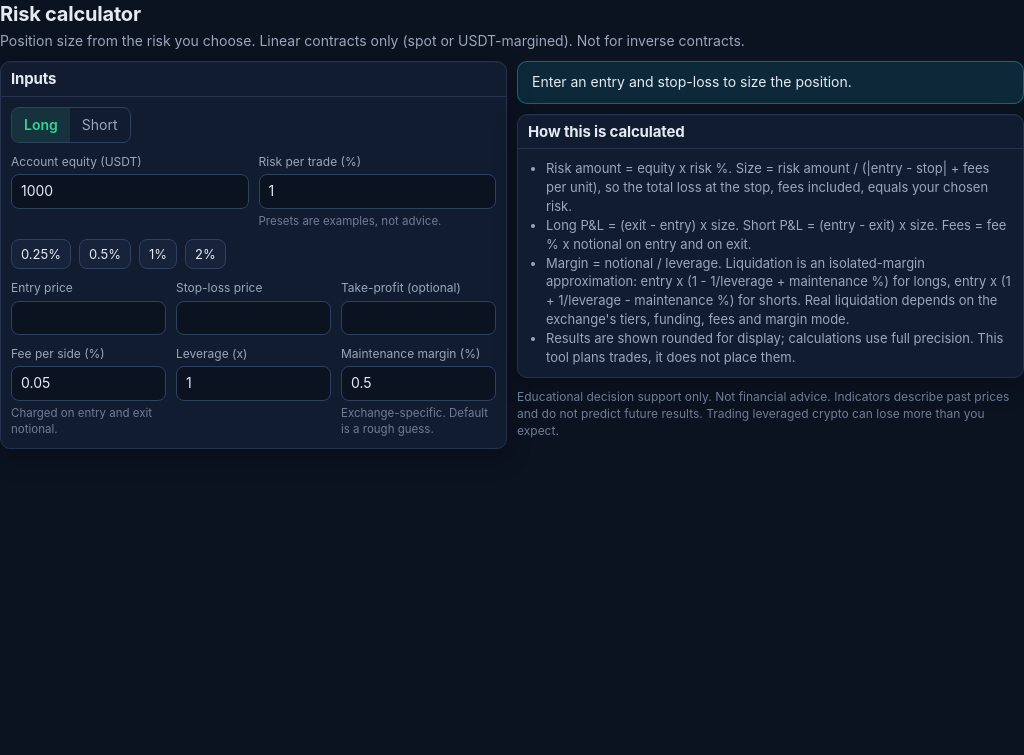
UI smoke tests (network failing, as when offline) › risk calculator computes a position size
Replace the text in the field labelled "Account equity (USDT)" with "10000": (130, 192) [11,174,248,209]
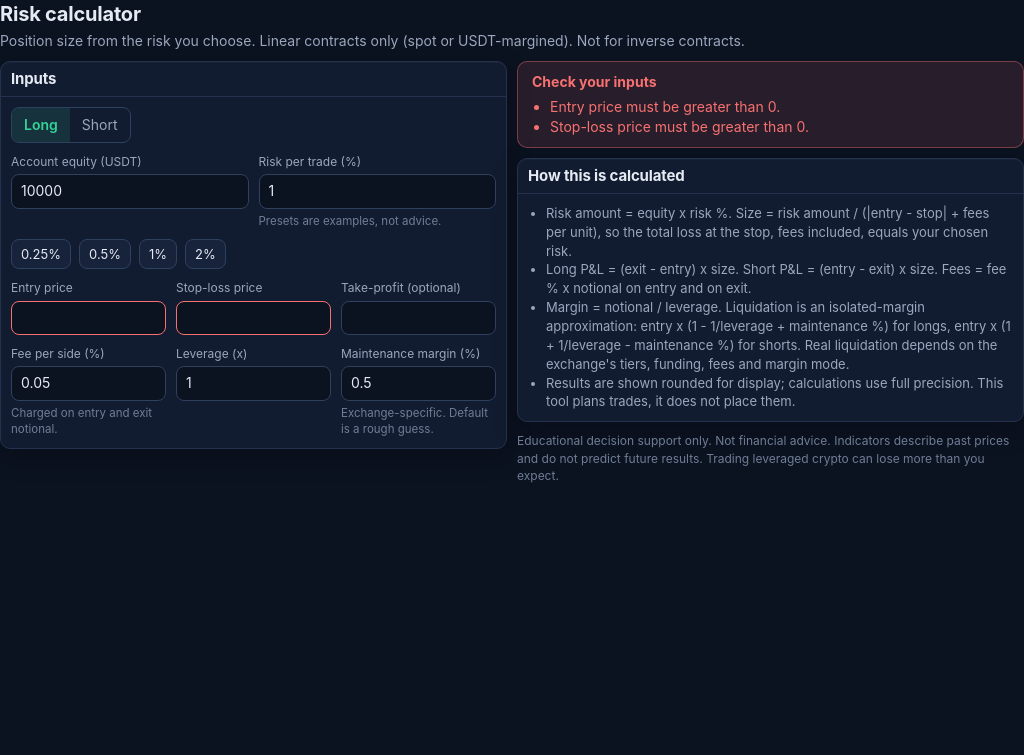
In the field labelled "Entry price": (88, 318) [11,301,166,335], type "100"
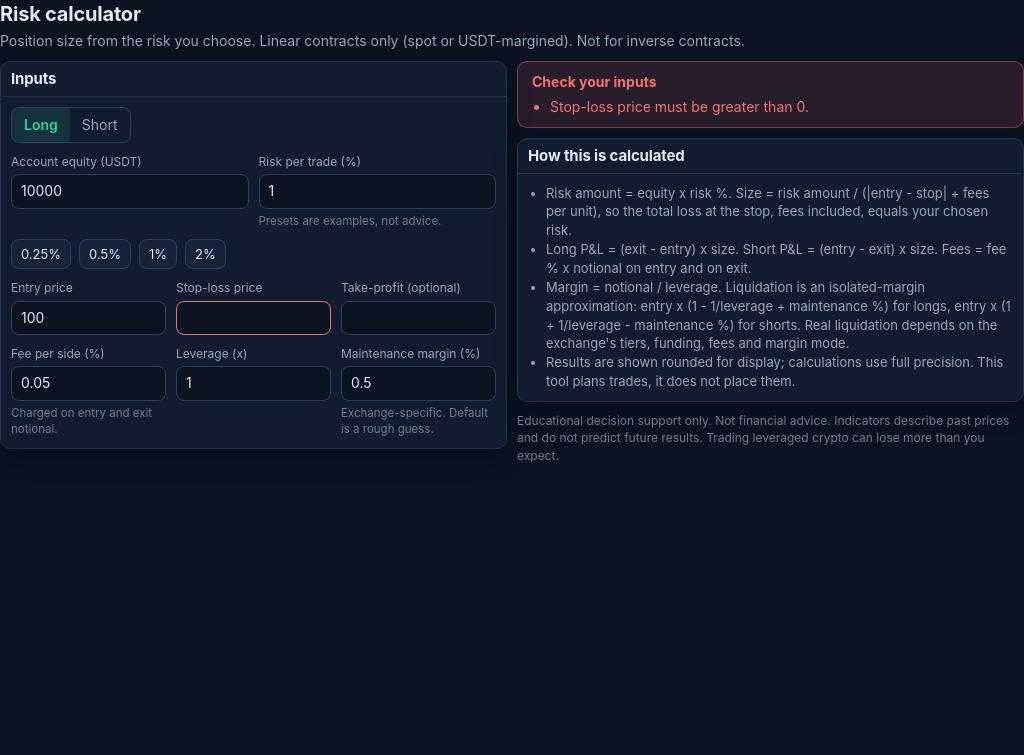
In the field labelled "Stop-loss price": (254, 318) [176,301,331,335], type "95"
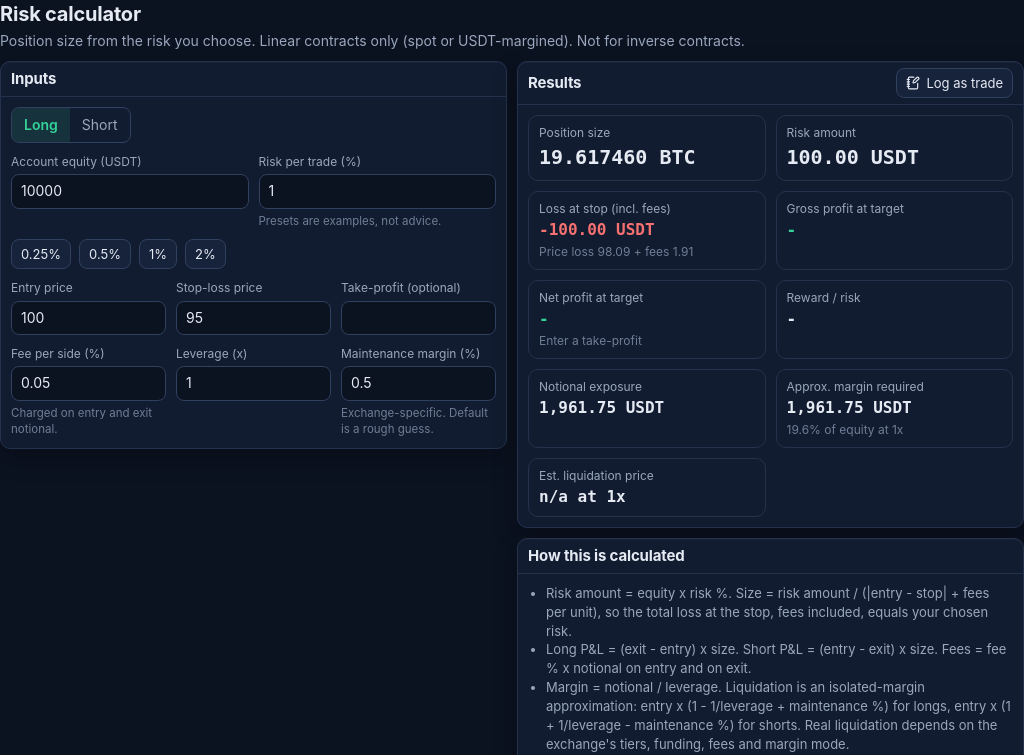
Replace the text in the field labelled "Fee per side (%)" with "0": (88, 384) [11,366,166,401]
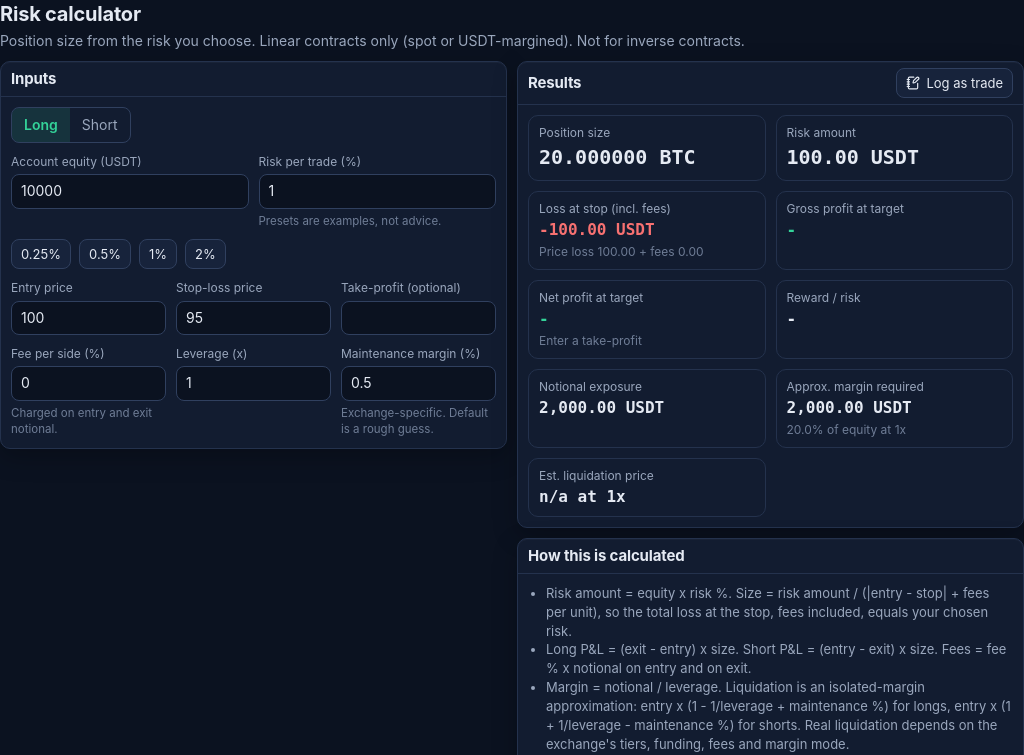
Result: the text "Position size" is shown at [539,125,610,140]
Result: the text "20.000000 BTC" is shown at [539,145,696,169]
